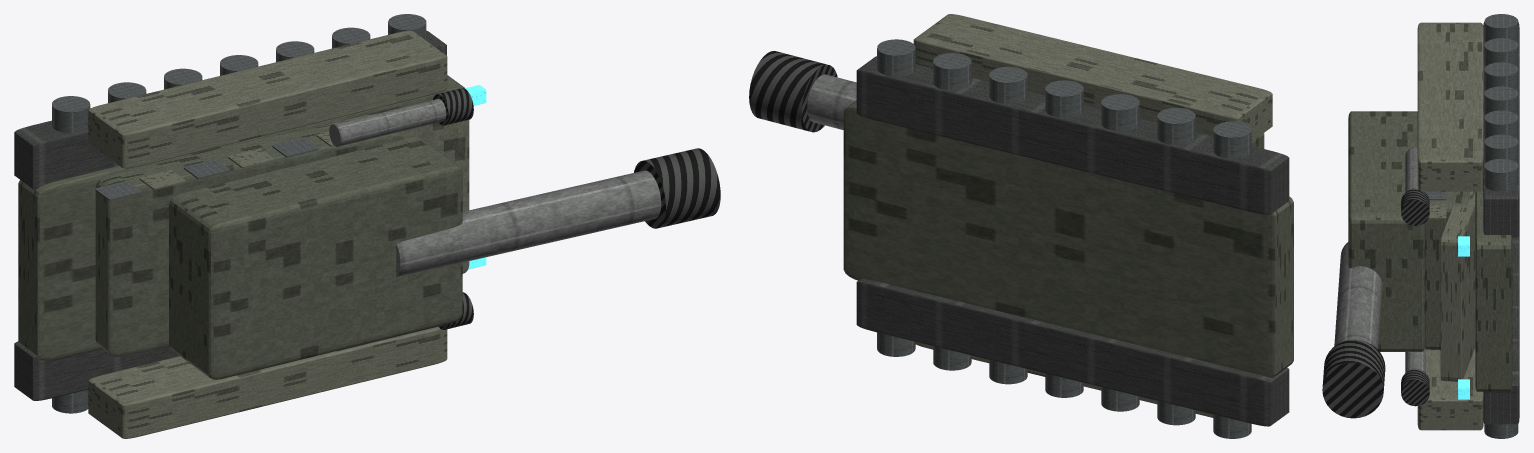
The model's file is v-u20-vanguard-super-heavy-lod0.glb.
3 views of the same model, side by side, from view 1: azimuth 30°, elevation 25°; view 2: azimuth 150°, elevation 25°; view 3: azimuth 270°, elevation 25° (orthographic). The views are drawn at different scales.
Parts seen in each view (by area): view 1: superheavy_turret, armor_belt_1, upper_hull, armor_belt_-1, chassis_lower, superheavy_main_barrel_0, chassis_track_1, chassis_track_-1, superheavy_main_muzzle_0, sponson_1_barrel_0, chassis_glacis, chassis_roadwheel_1_0 (+3 smaller); view 2: chassis_lower, chassis_track_1, chassis_track_-1, armor_belt_1, superheavy_main_muzzle_0, superheavy_main_barrel_0, chassis_roadwheel_1_0, chassis_roadwheel_1_2, chassis_roadwheel_1_3, chassis_roadwheel_1_6, chassis_roadwheel_1_5, chassis_roadwheel_1_4 (+8 smaller); view 3: superheavy_turret, armor_belt_1, chassis_lower, chassis_glacis, superheavy_main_muzzle_0, armor_belt_-1, superheavy_main_barrel_0, upper_hull, chassis_track_-1, chassis_track_1, chassis_roadwheel_1_6, sponson_-1_muzzle_0 (+13 smaller).
Part boxes in pixels (x1,y1,x2,y2): superheavy_turret: [169, 137, 462, 379]; armor_belt_1: [88, 30, 447, 168]; upper_hull: [95, 124, 403, 356]; armor_belt_-1: [88, 327, 447, 438]; chassis_lower: [18, 75, 464, 360]; superheavy_main_barrel_0: [396, 170, 661, 276]; chassis_track_1: [14, 30, 446, 189]; chassis_track_-1: [14, 341, 179, 400]; superheavy_main_muzzle_0: [634, 148, 720, 228]; sponson_1_barrel_0: [329, 98, 446, 146]; chassis_glacis: [316, 113, 469, 273]; chassis_roadwheel_1_0: [52, 96, 90, 133]; chassis_lower: [843, 100, 1293, 377]; chassis_track_1: [856, 56, 1289, 214]; chassis_track_-1: [856, 279, 1289, 426]; armor_belt_1: [913, 14, 1272, 141]; superheavy_main_muzzle_0: [749, 51, 837, 132]; superheavy_main_barrel_0: [807, 74, 856, 129]; chassis_roadwheel_1_0: [1213, 121, 1251, 158]; chassis_roadwheel_1_2: [1101, 94, 1139, 131]; chassis_roadwheel_1_3: [1045, 80, 1083, 117]; chassis_roadwheel_1_6: [877, 39, 915, 76]; chassis_roadwheel_1_5: [933, 53, 971, 90]; chassis_roadwheel_1_4: [989, 66, 1027, 103]; superheavy_turret: [1348, 111, 1425, 351]; armor_belt_1: [1417, 22, 1483, 191]; chassis_lower: [1475, 189, 1512, 391]; chassis_glacis: [1440, 191, 1475, 381]; superheavy_main_muzzle_0: [1322, 339, 1385, 418]; armor_belt_-1: [1417, 348, 1483, 430]; superheavy_main_barrel_0: [1334, 242, 1382, 349]; upper_hull: [1425, 191, 1469, 350]; chassis_track_-1: [1483, 232, 1519, 424]; chassis_track_1: [1483, 22, 1519, 237]; chassis_roadwheel_1_6: [1484, 158, 1518, 191]; sponson_-1_muzzle_0: [1401, 369, 1429, 406].
Size of what is drawn, in the model's own units: 12.85 by 6.3 by 4.16.
Materials: 7 (7 with a texture image).
